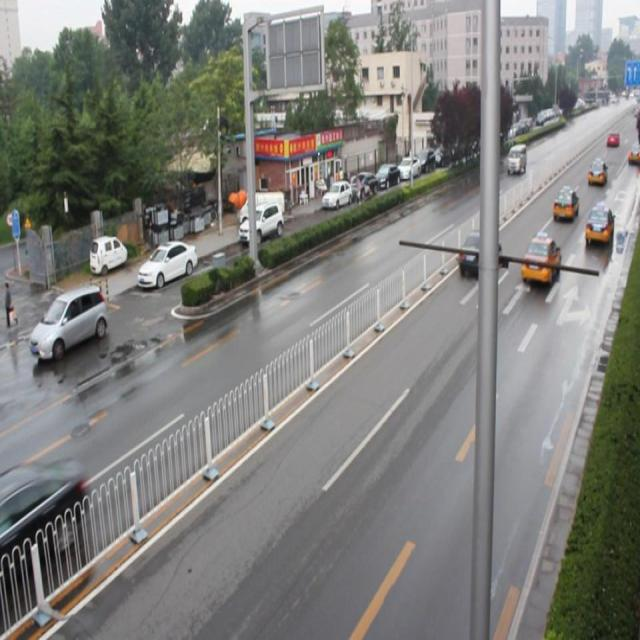car: (0, 458, 89, 579), (518, 234, 559, 284), (458, 229, 500, 277), (582, 204, 610, 246), (552, 186, 578, 222)
